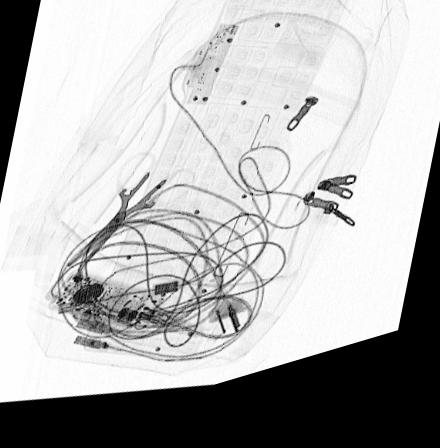Scissors: (63, 157, 198, 276)
